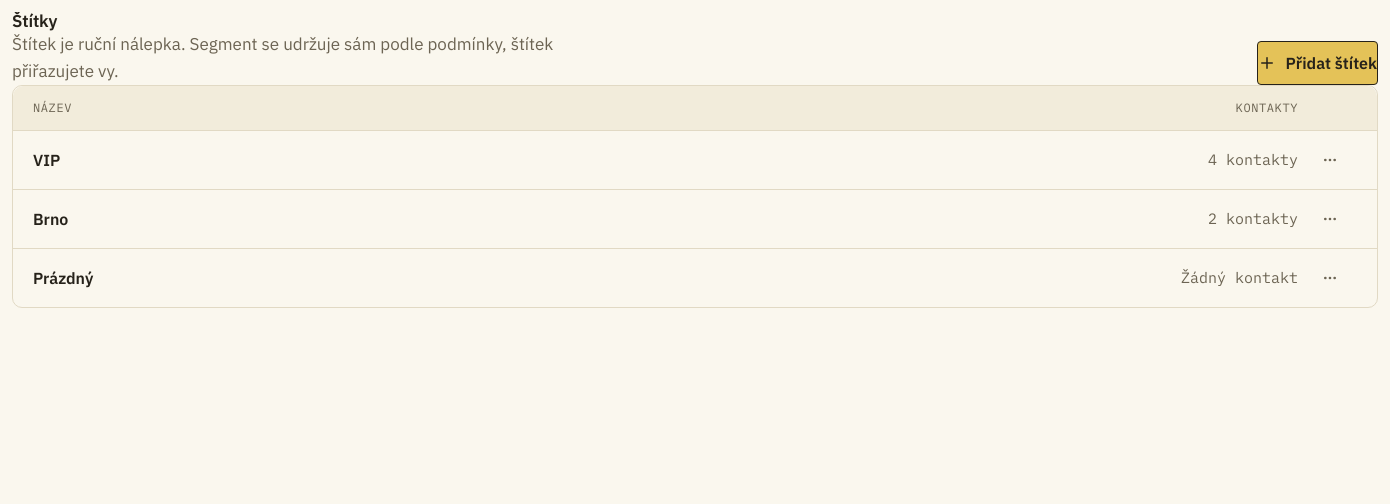
it: TagsScreen › u štítku bez kontaktů se export nenabízí, není co exportovat
The width and height of the screenshot is (1390, 504).
Click the button named "Další akce se štítkem Prázdný" at (1330, 278), box [1313, 261, 1347, 295]
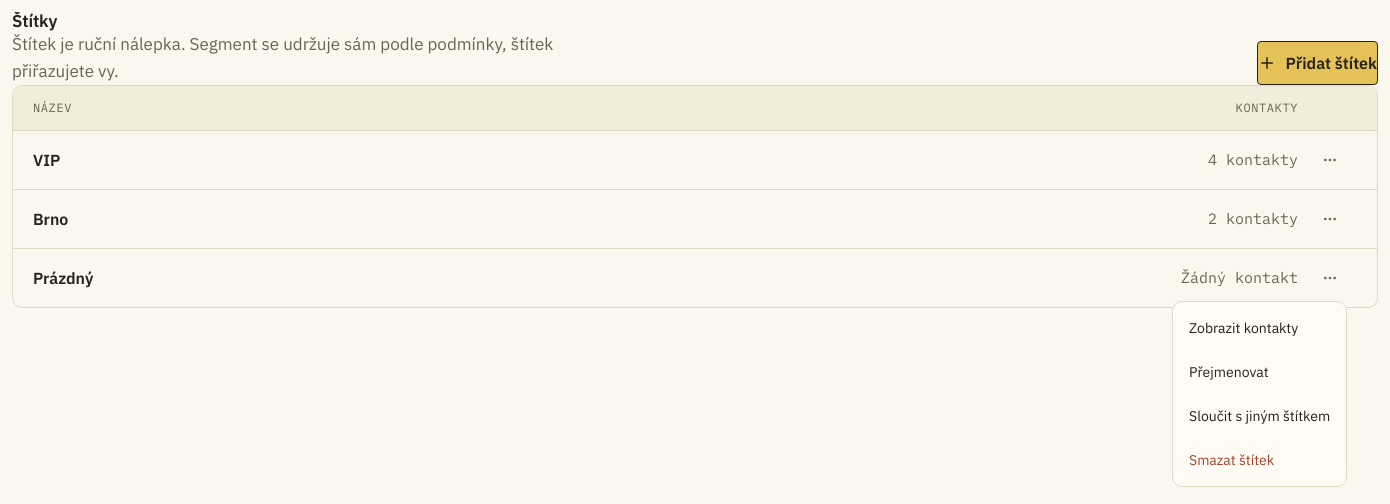
Result: the menu item "Přejmenovat" is shown at [1189, 363, 1269, 381]
